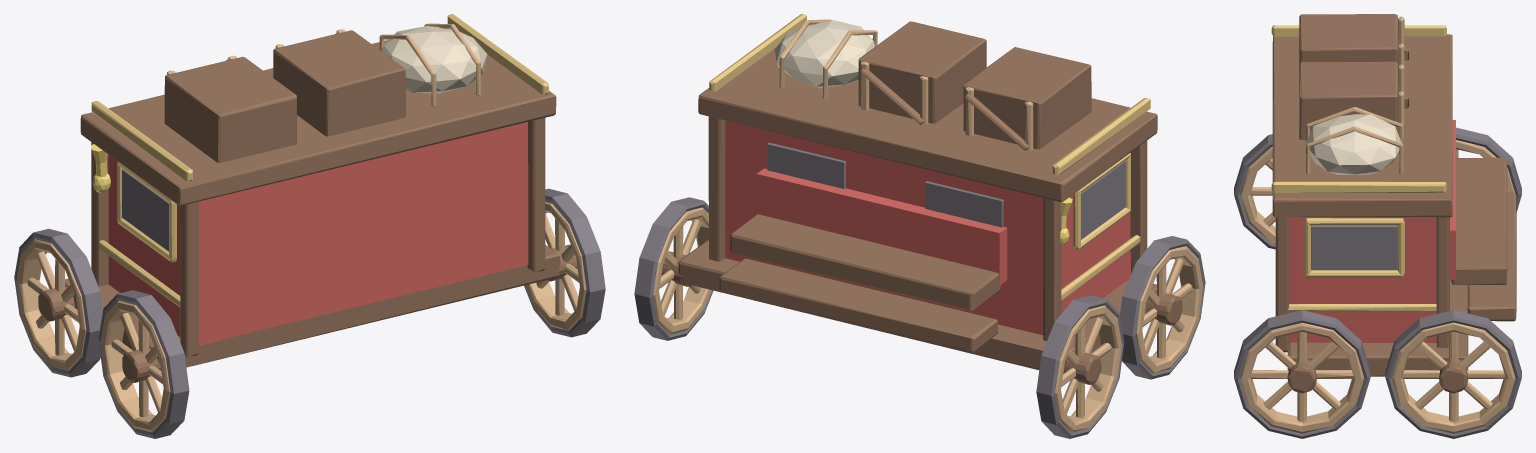
File: Kit_LM_Stagecoach.fbx
3 renders of one model, left to right at view 1: azimuth 30°, elevation 25°; view 2: azimuth 150°, elevation 25°; view 3: azimuth 270°, elevation 25°, orthographic. The views are drawn at different scales.
Parts seen in each view (by area): view 1: Kit_LM_Stagecoach; view 2: Kit_LM_Stagecoach; view 3: Kit_LM_Stagecoach.
Part boxes in pixels (x1=…): Kit_LM_Stagecoach: x1=14, y1=14, x2=605, y2=438; Kit_LM_Stagecoach: x1=634, y1=14, x2=1205, y2=438; Kit_LM_Stagecoach: x1=1234, y1=14, x2=1521, y2=438.
Size of the model in its own units: 3.99 by 2.6 by 2.47.
